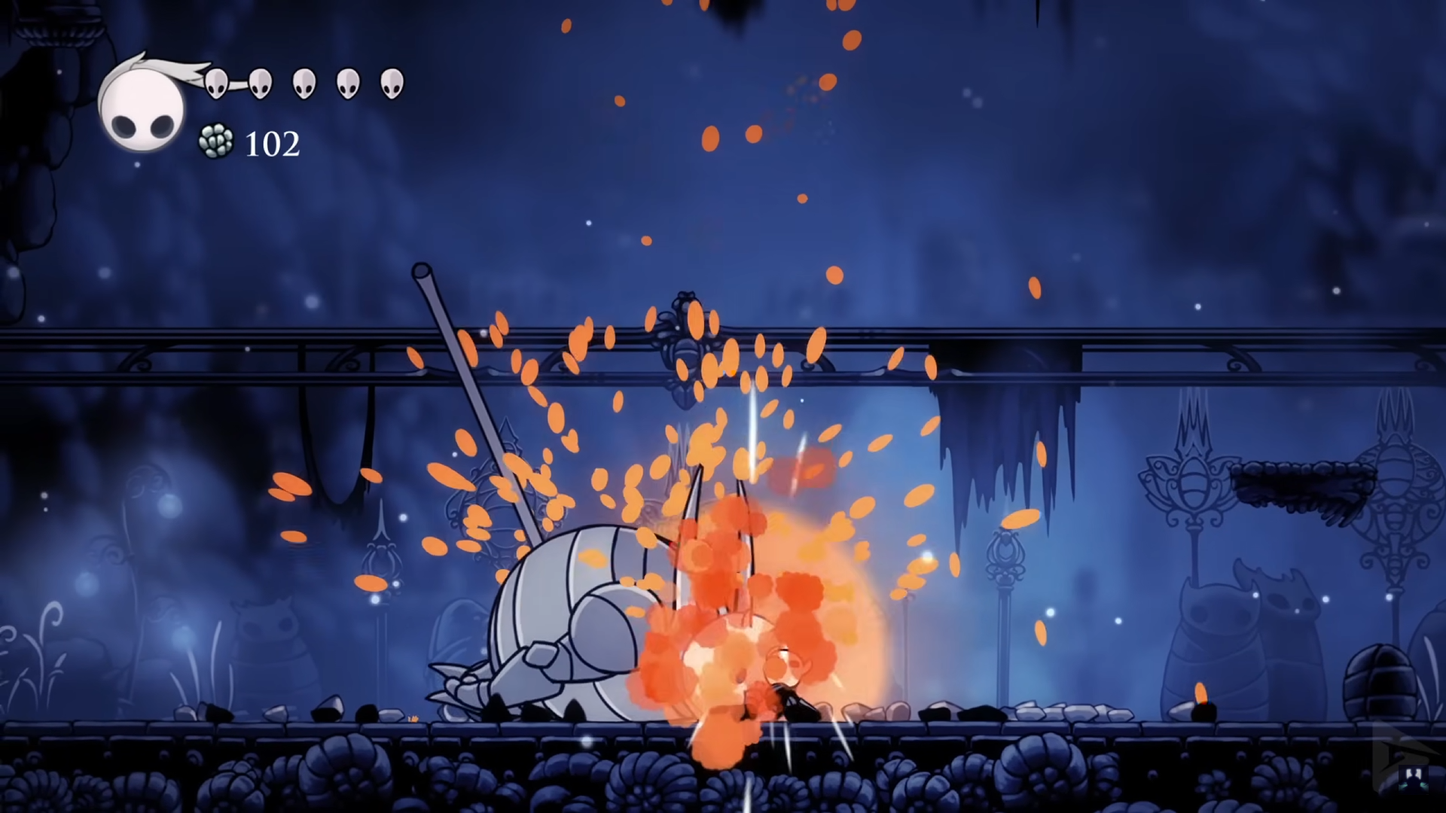HK: (760, 643, 807, 723)
